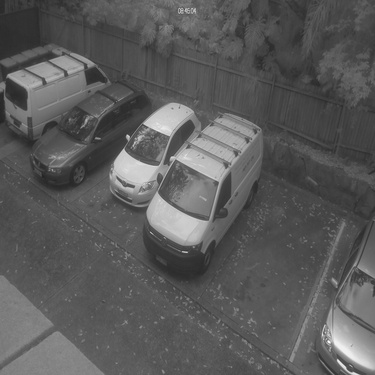car: (24, 81, 156, 187), (100, 100, 203, 211), (301, 209, 371, 369)
